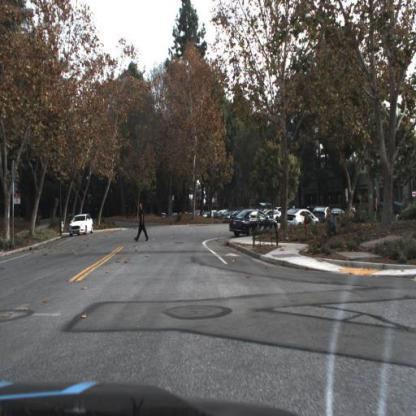car: (229, 207, 280, 239), (228, 209, 280, 237), (276, 208, 321, 233), (69, 213, 96, 241), (67, 212, 95, 237), (289, 212, 320, 230)
pedestrian: (136, 200, 150, 244)
